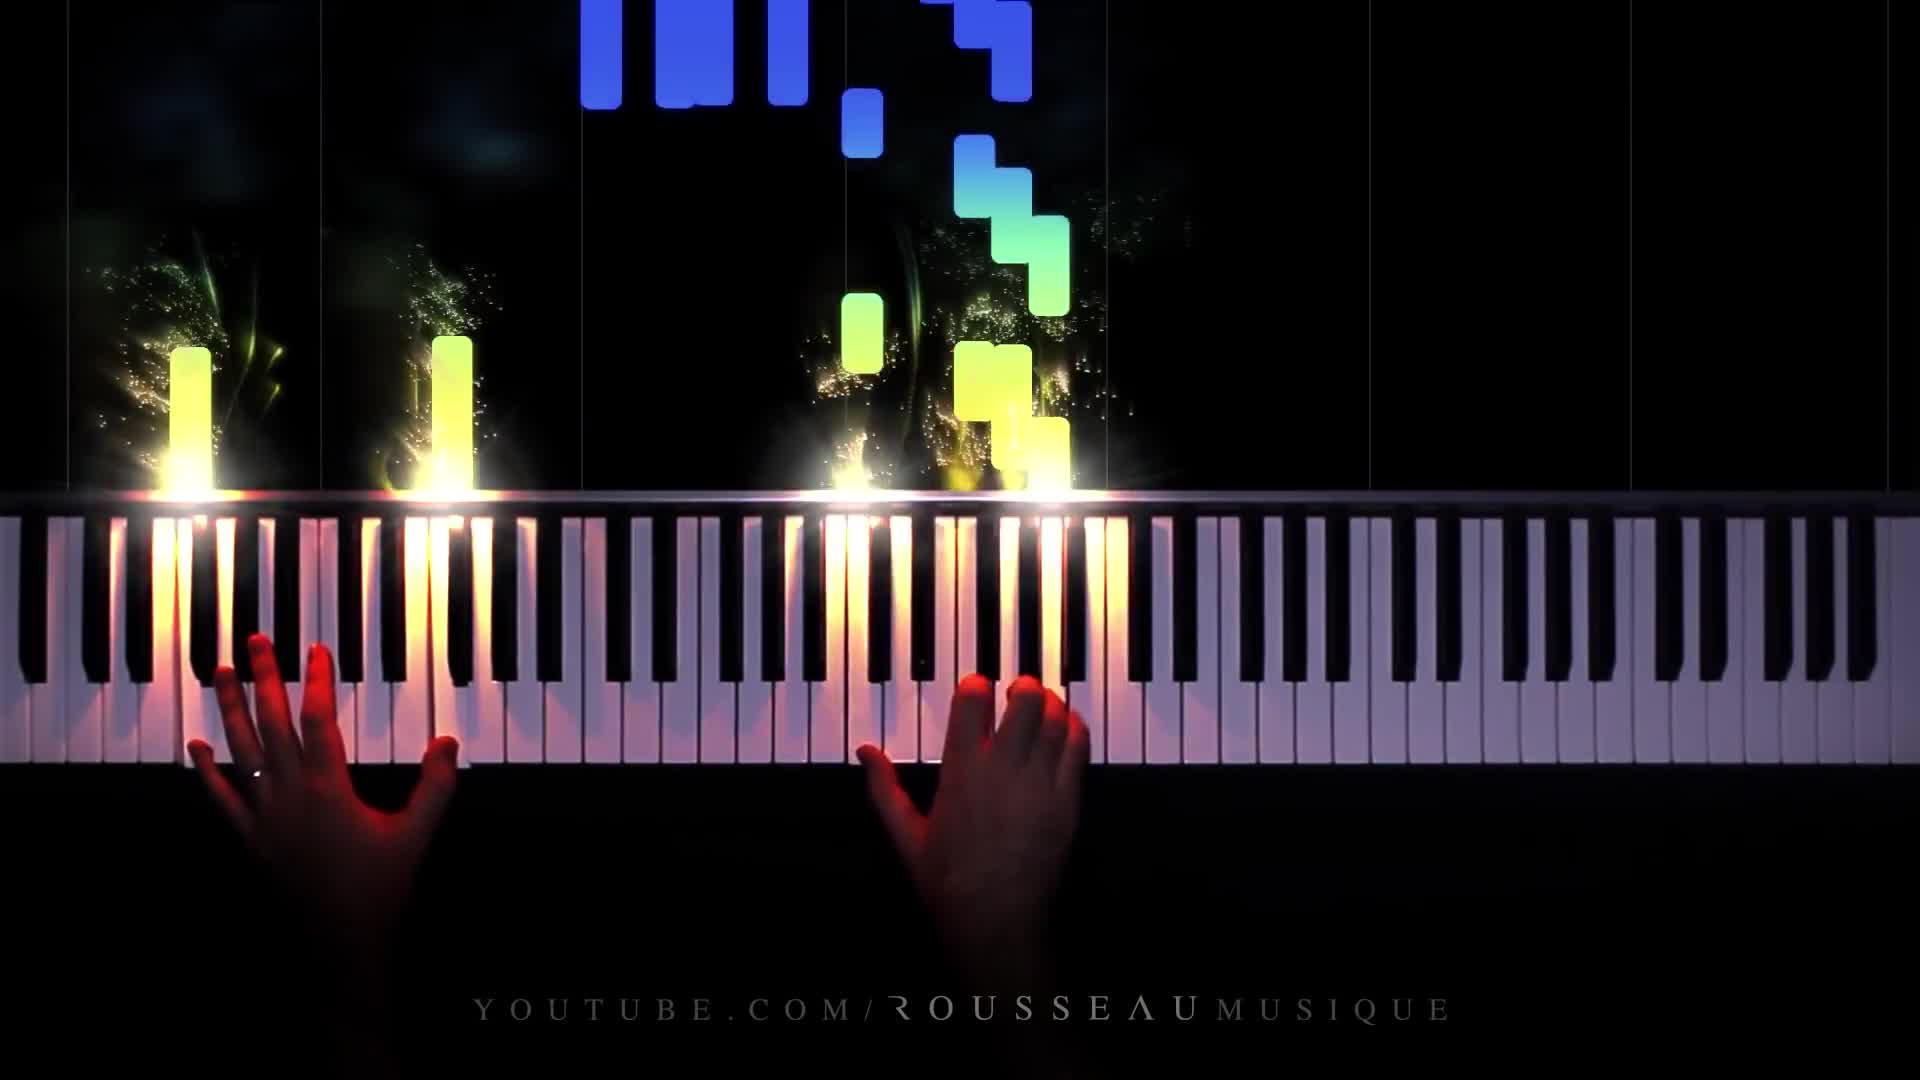left: (186, 626, 459, 903)
right: (851, 669, 1097, 916)
